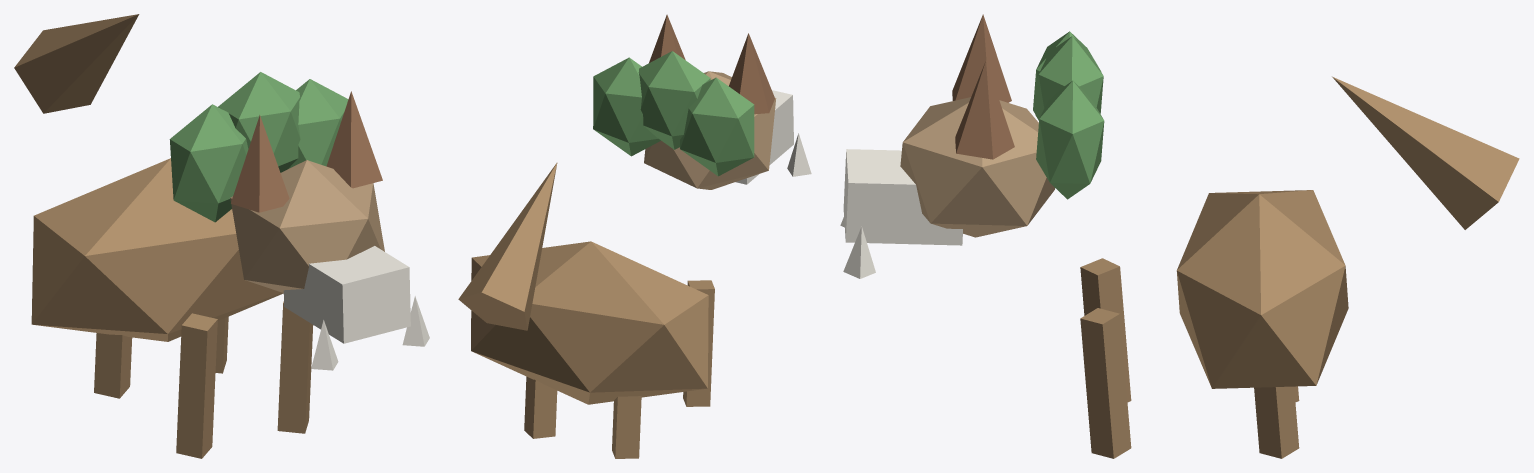
File: npcpose_wolf_attack_10.glb
The picture shows the model from 3 angles, left to right: view 1: azimuth 30°, elevation 25°; view 2: azimuth 150°, elevation 25°; view 3: azimuth 270°, elevation 25°; orthographic projection. The views are drawn at different scales.
Parts seen in each view (by area): view 1: npcpose; view 2: npcpose; view 3: npcpose.
Part boxes in pixels (x1,y1,x2,y2): npcpose: (14,14,429,458); npcpose: (458,14,811,458); npcpose: (840,14,1519,458).
Size of the model in its own units: 0.8873 by 1.18 by 1.86.
